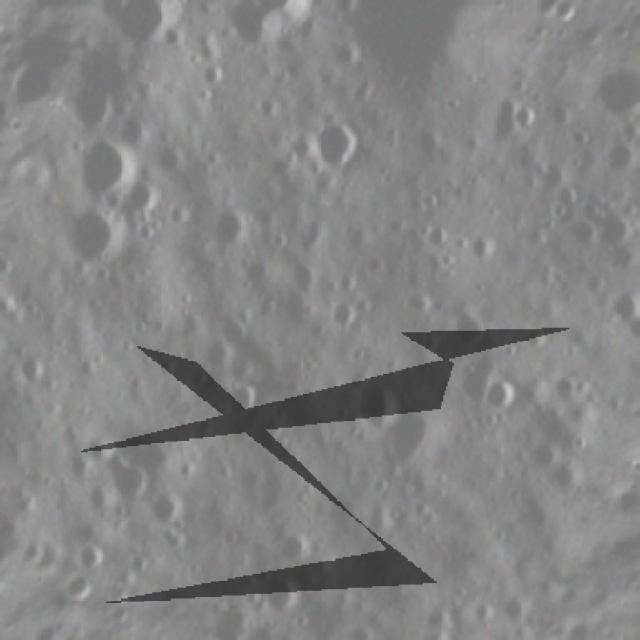crater: (209, 0, 334, 88), (46, 116, 151, 218), (34, 188, 138, 289), (76, 435, 172, 522), (97, 0, 205, 71), (373, 391, 456, 483), (301, 105, 381, 184), (198, 192, 274, 271), (54, 72, 126, 146), (244, 558, 316, 627), (508, 485, 580, 553), (346, 370, 412, 444), (439, 298, 499, 360), (535, 172, 593, 232), (478, 369, 536, 428), (264, 516, 321, 576), (215, 366, 270, 428), (140, 481, 197, 539), (587, 198, 640, 259), (594, 268, 640, 338), (117, 166, 171, 225), (209, 308, 266, 362), (3, 345, 59, 398), (111, 106, 164, 159), (146, 134, 197, 186), (594, 130, 640, 185), (521, 432, 570, 482), (506, 92, 554, 142), (185, 52, 238, 97), (492, 587, 540, 635), (462, 225, 510, 272), (320, 297, 366, 341), (72, 532, 115, 576), (545, 365, 587, 410), (545, 456, 586, 499), (397, 282, 440, 323), (415, 216, 457, 256), (122, 544, 162, 584), (518, 323, 557, 360), (471, 627, 508, 640)
